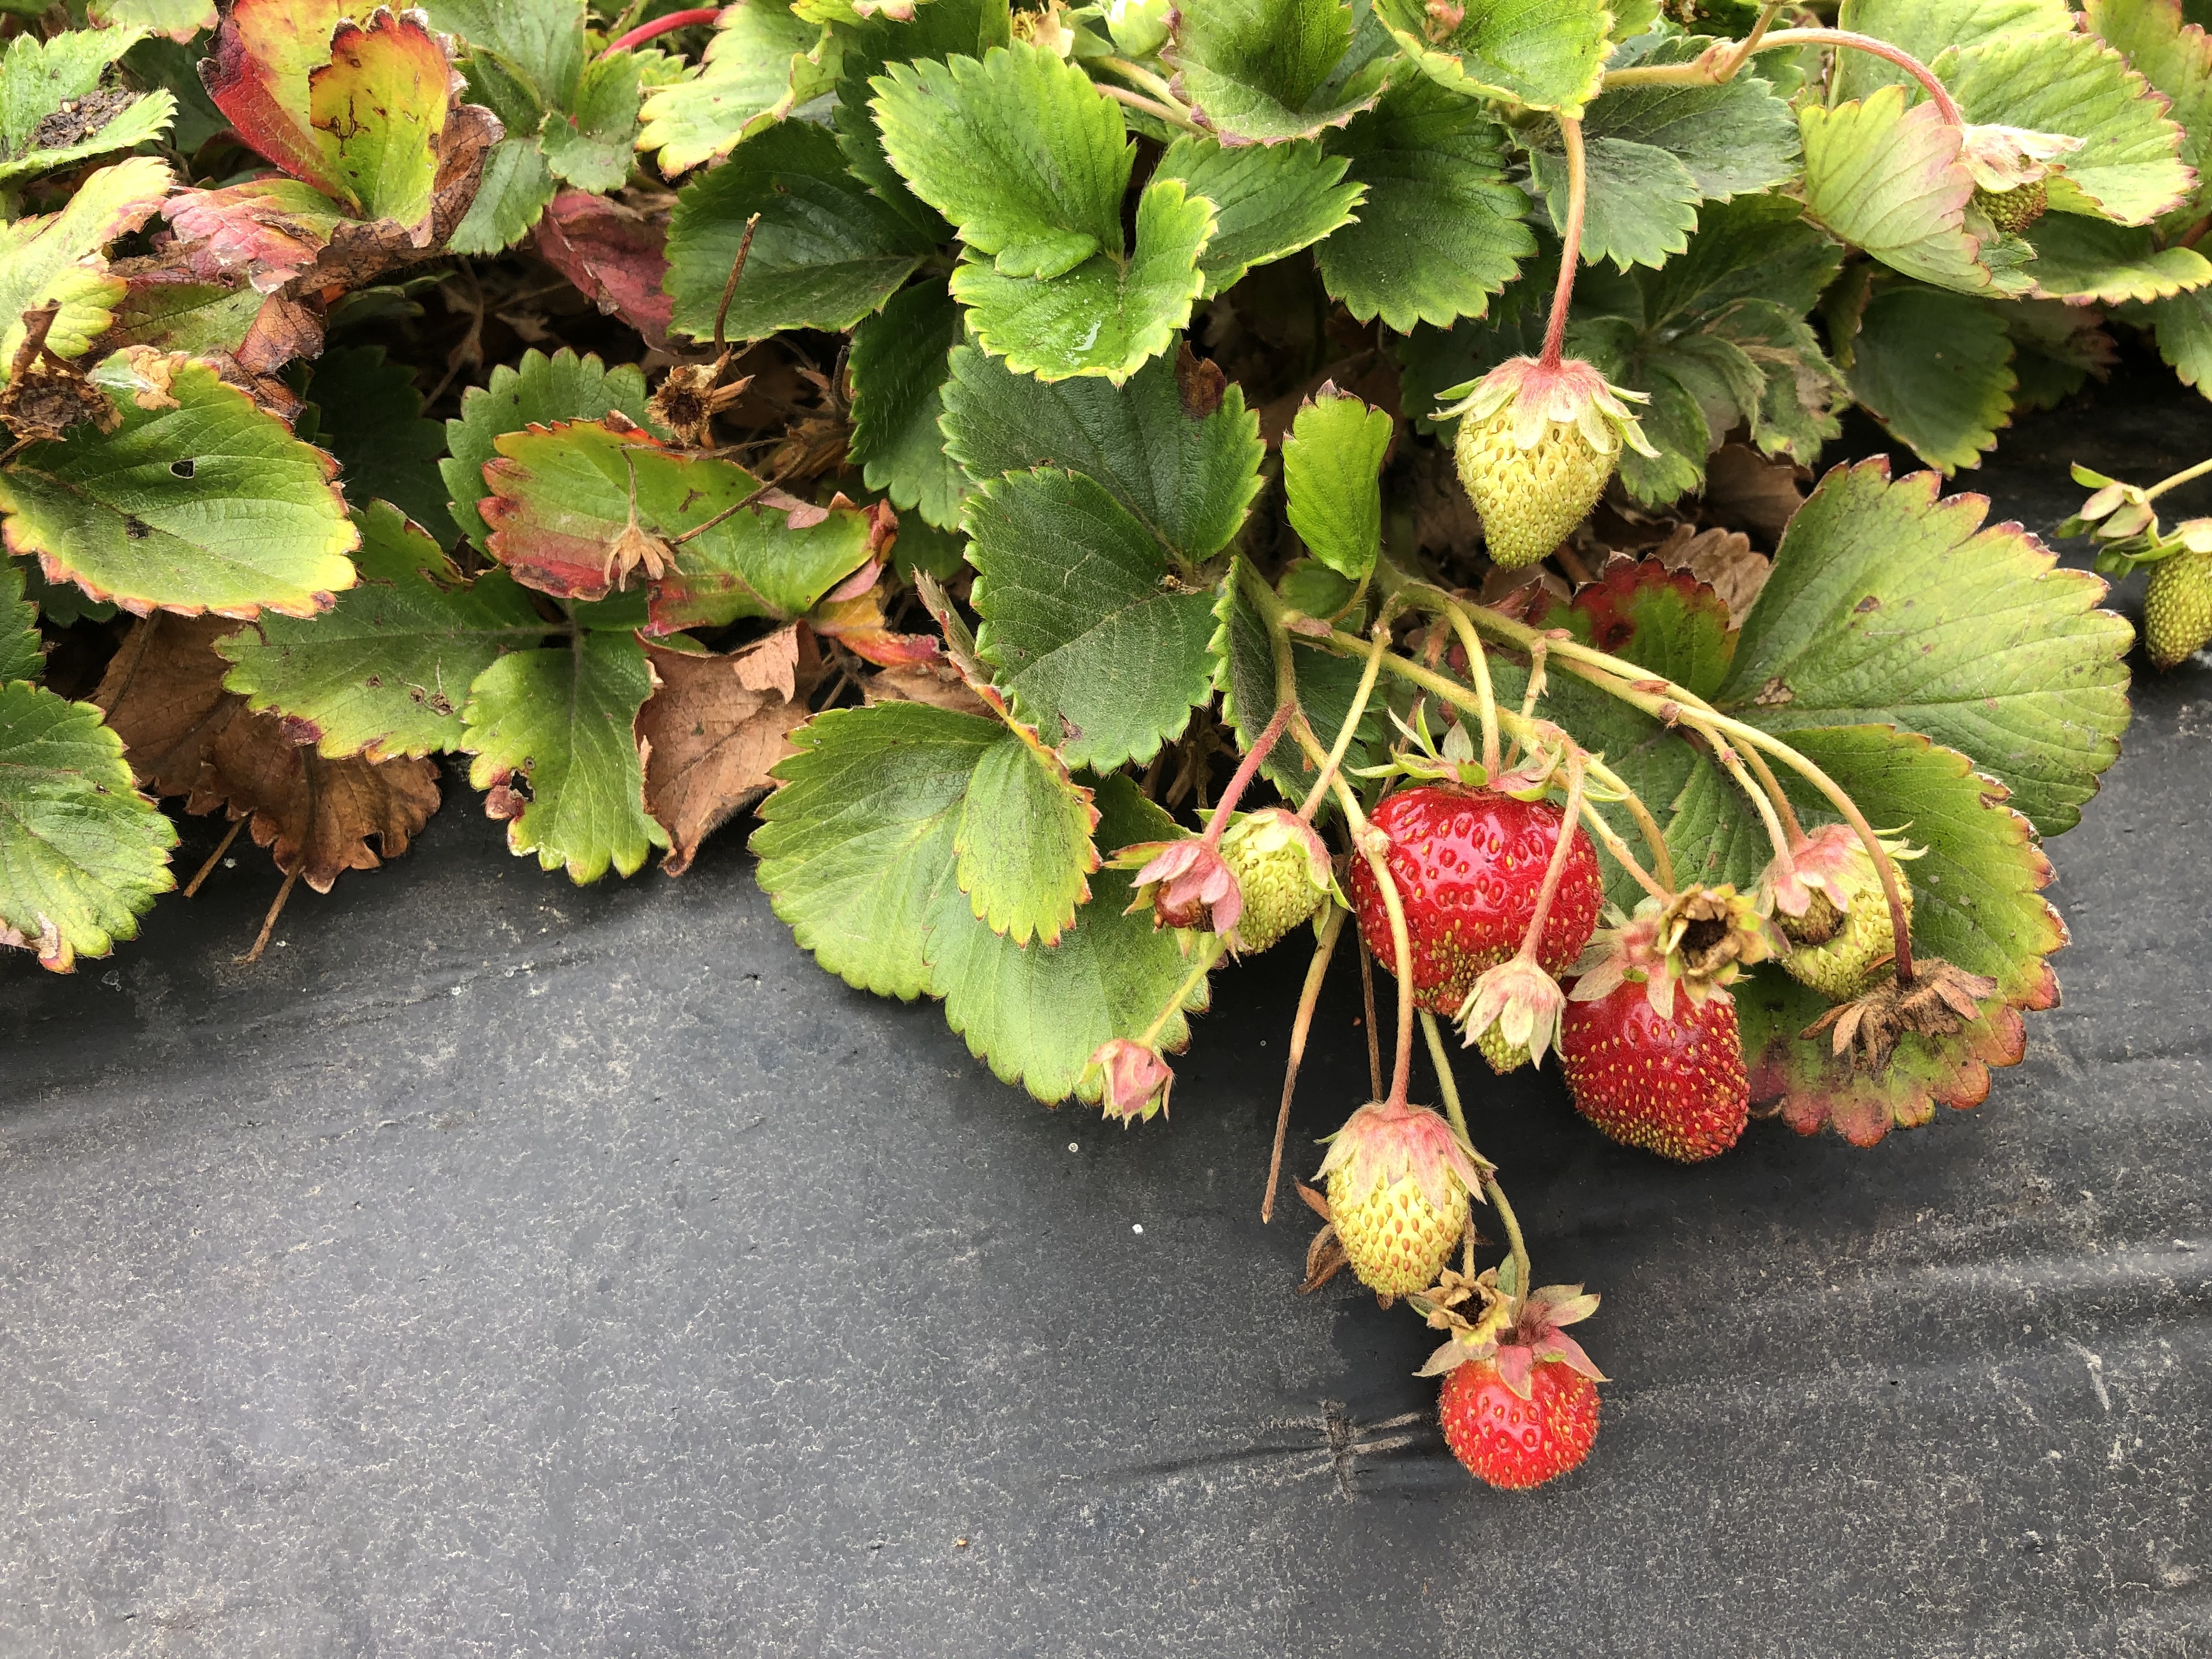ripe_strawberry: (1350, 767, 1604, 1030), (1557, 946, 1764, 1168), (1433, 1304, 1606, 1497)
unripe_strawberry: (1451, 349, 1629, 575), (1317, 1091, 1470, 1302), (1766, 819, 1919, 1000), (1212, 807, 1336, 960), (1468, 950, 1564, 1077), (2134, 519, 2212, 671)
